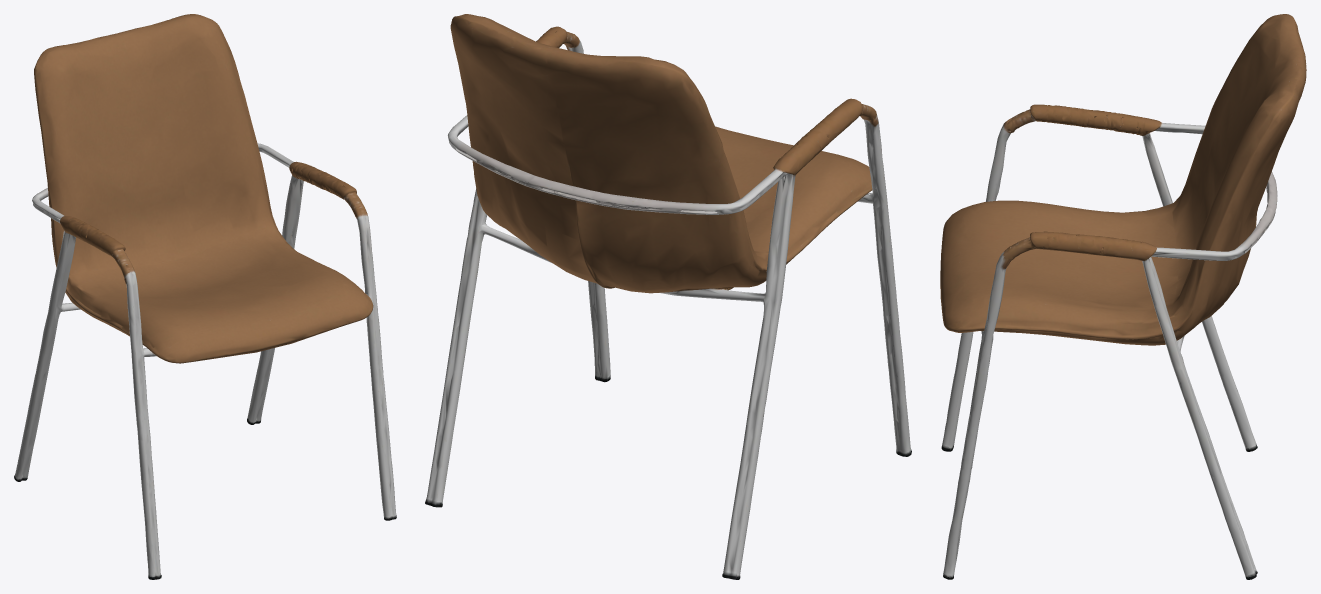
File: chrome-armchair.glb
3 views of the same model, side by side, from view 1: azimuth 30°, elevation 25°; view 2: azimuth 150°, elevation 25°; view 3: azimuth 270°, elevation 25° (orthographic). The views are drawn at different scales.
Parts seen in each view (by area): view 1: world; view 2: world; view 3: world.
Boxes of the visible parts, bbox=[...] form: world: bbox=[14, 14, 396, 579]; world: bbox=[425, 14, 911, 579]; world: bbox=[940, 14, 1306, 579].
Bounding box in the file's own units: 0.6351 × 0.9993 × 0.7236.
1 material, 1 textured.
